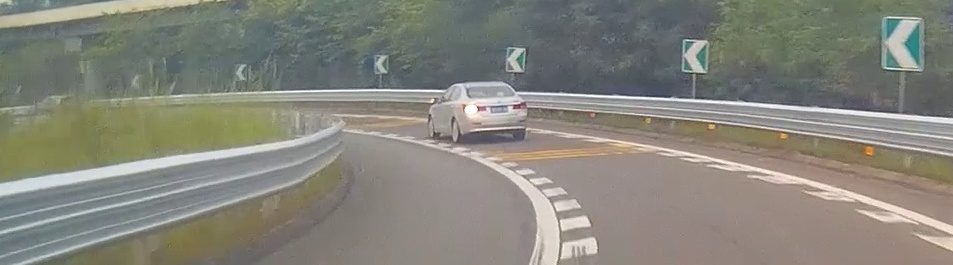L_light: (461, 104, 486, 112)
R_light: (512, 101, 527, 110)
T_light: (487, 85, 496, 87)
day-left: (458, 81, 528, 143)
